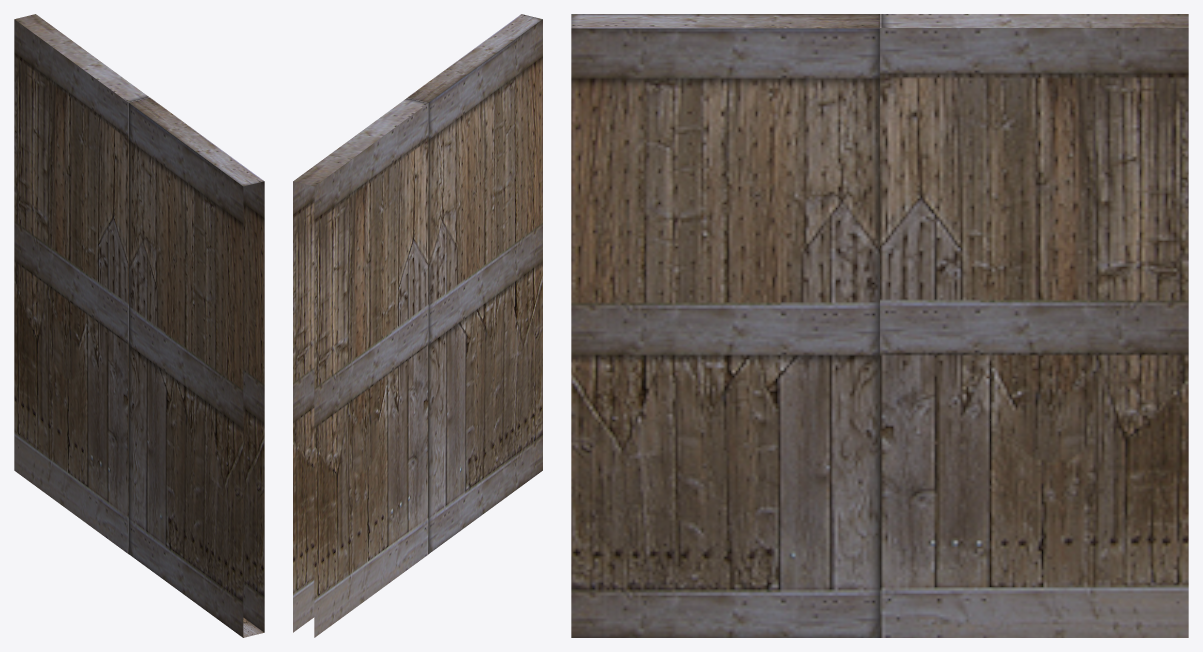
File: hele_fortress_gate.dae
The picture shows the model from 3 angles, left to right: view 1: azimuth 30°, elevation 25°; view 2: azimuth 150°, elevation 25°; view 3: azimuth 270°, elevation 25°; orthographic projection. The views are drawn at different scales.
Parts seen in each view (by area): view 1: fortress_door; view 2: fortress_door; view 3: fortress_door.
Boxes of the visible parts, x1=… form: fortress_door: x1=14, y1=14, x2=264, y2=637; fortress_door: x1=293, y1=14, x2=542, y2=637; fortress_door: x1=571, y1=14, x2=1188, y2=637.
Bounding box in the file's own units: 0.4645 × 8.52 × 9.29.
